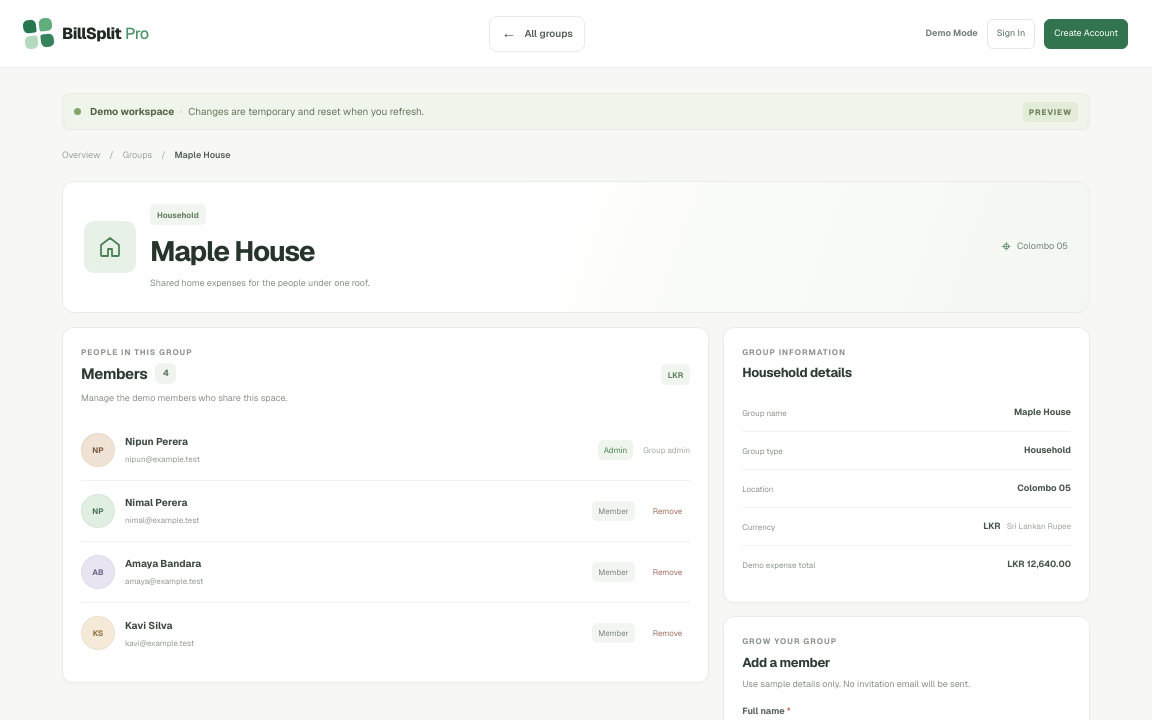
group management screens › prevents removing a member referenced by an expense
Click the button with aria-label "Remove Nimal Perera from Maple House": (668, 510) [645, 496, 690, 526]
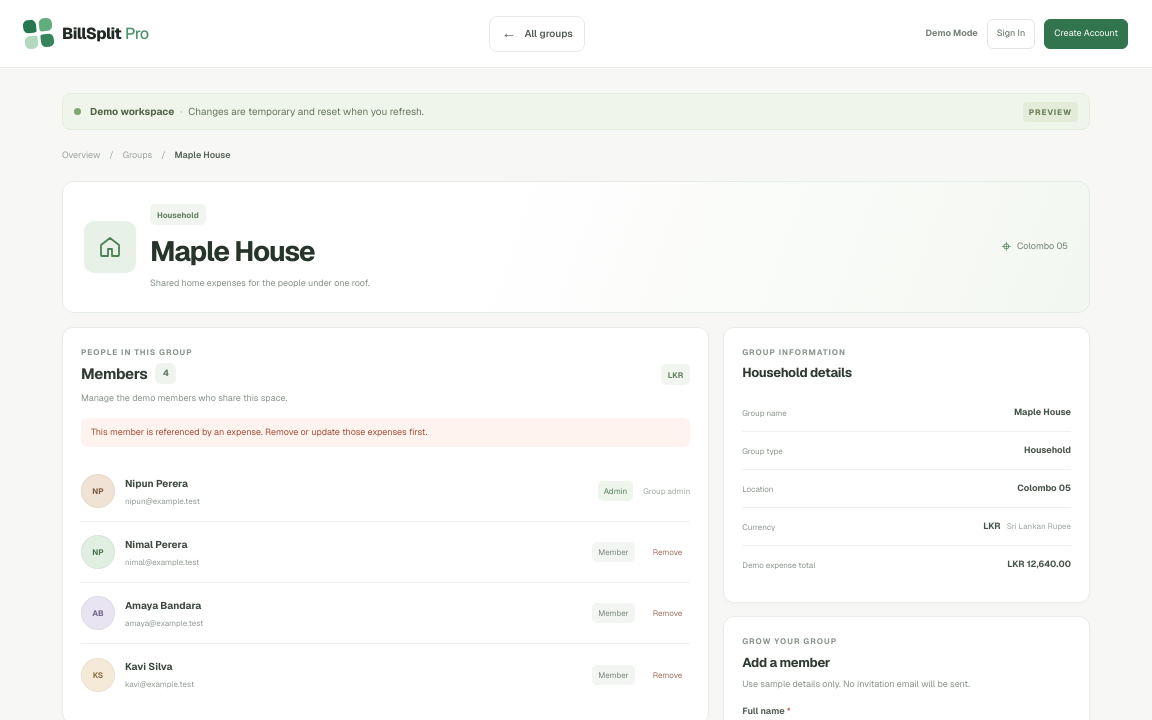
Check: the text "nimal@example.test" is shown, box [125, 556, 199, 566]
Check: the message shows "This member is referenced by an expense.", box [91, 426, 427, 438]
